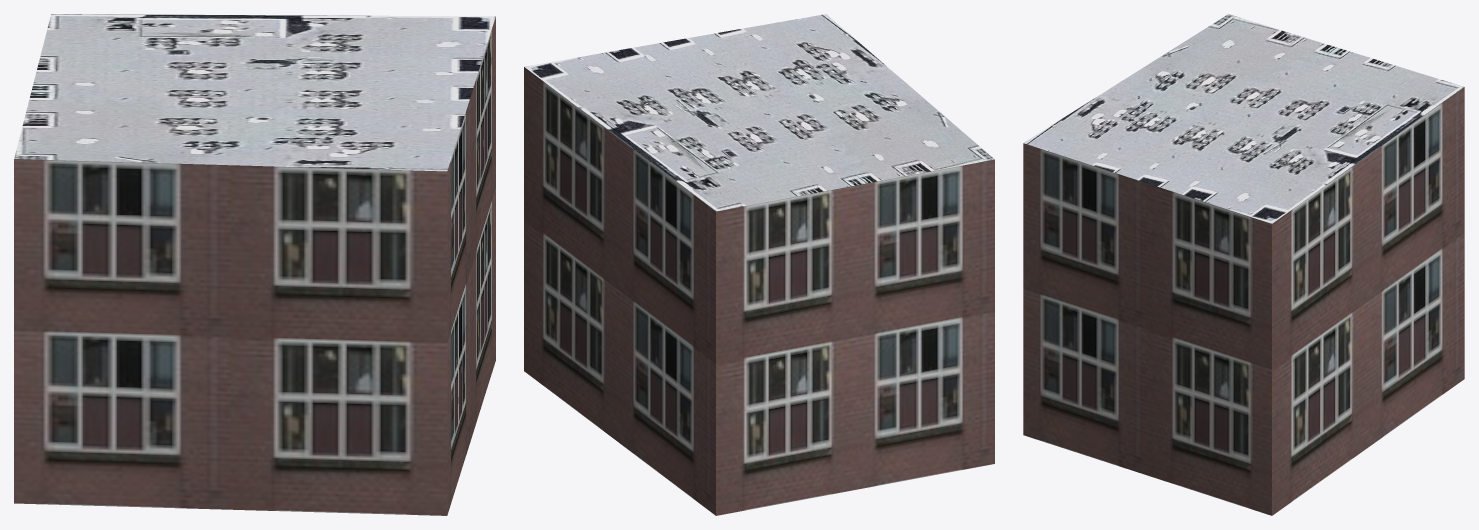
File: ResTex__3337.fbx
3 views of the same model, side by side, from view 1: azimuth 30°, elevation 25°; view 2: azimuth 150°, elevation 25°; view 3: azimuth 270°, elevation 25° (orthographic). The views are drawn at different scales.
Parts seen in each view (by area): view 1: CityEngineMaterial_12_m, CityEngineMaterial_8_m; view 2: CityEngineMaterial_12_m, CityEngineMaterial_8_m; view 3: CityEngineMaterial_12_m, CityEngineMaterial_8_m.
Boxes of the visible parts, x1=… form: CityEngineMaterial_12_m: x1=14, y1=16, x2=495, y2=515; CityEngineMaterial_8_m: x1=14, y1=14, x2=495, y2=171; CityEngineMaterial_12_m: x1=524, y1=67, x2=994, y2=515; CityEngineMaterial_8_m: x1=524, y1=14, x2=994, y2=211; CityEngineMaterial_12_m: x1=1023, y1=87, x2=1464, y2=515; CityEngineMaterial_8_m: x1=1023, y1=14, x2=1463, y2=223.
Size of the model in its own units: 9.25 by 6 by 8.22.
2 materials, 2 textured.
